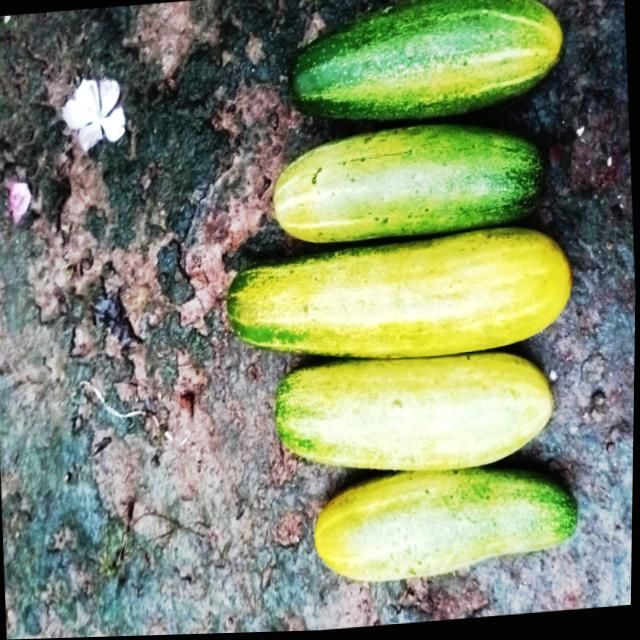Fresh-Cucumber: (224, 226, 575, 373), (272, 348, 559, 489), (282, 0, 571, 136), (268, 116, 551, 252), (311, 461, 585, 592)
